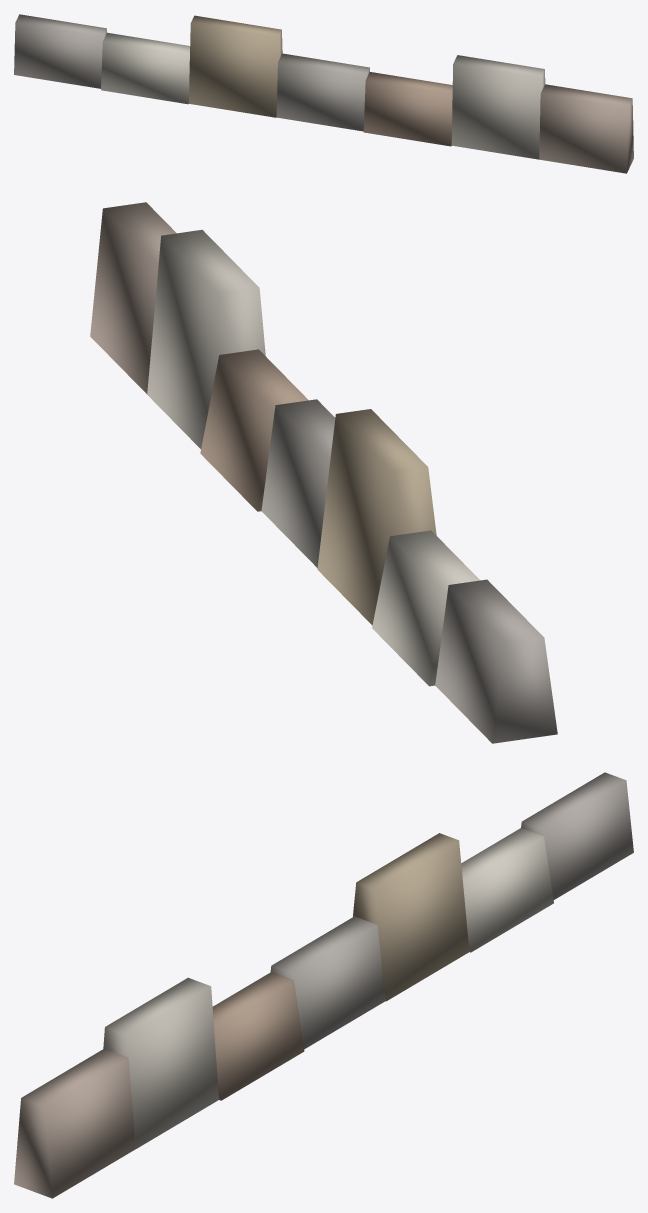
Rendered from farm_4_17_collision.glb.
3 views of the same model, one above another, from view 1: azimuth 30°, elevation 25°; view 2: azimuth 150°, elevation 25°; view 3: azimuth 270°, elevation 25° (orthographic). The views are drawn at different scales.
Parts seen in each view (by area): view 1: geometry_0; view 2: geometry_0; view 3: geometry_0.
Part boxes in pixels (<box>): geometry_0: <box>14,14,633,173</box>; geometry_0: <box>90,202,557,743</box>; geometry_0: <box>14,772,633,1198</box>.
Bounding box in the file's own units: 8.7 × 2.14 × 7.75.
